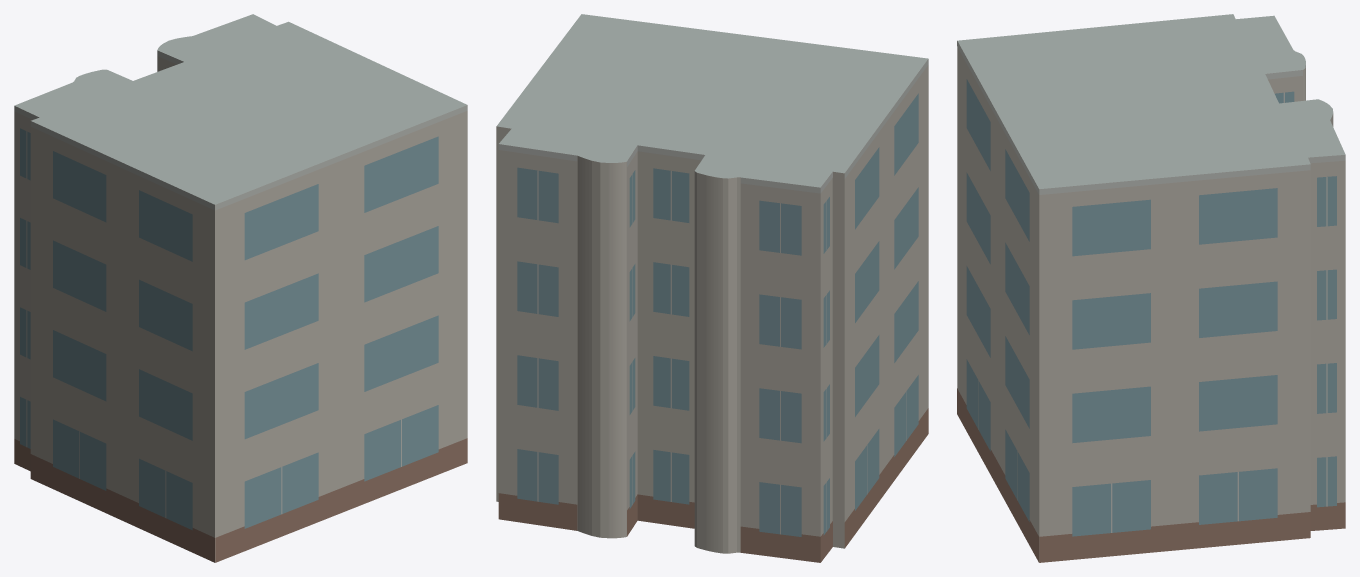
Rendered from survey-upis-32678528.glb.
The picture shows the model from 3 angles, left to right: view 1: azimuth 30°, elevation 25°; view 2: azimuth 150°, elevation 25°; view 3: azimuth 270°, elevation 25°; orthographic projection. The views are drawn at different scales.
Parts seen in each view (by area): view 1: survey-upis-32678528.tmp; view 2: survey-upis-32678528.tmp; view 3: survey-upis-32678528.tmp.
Boxes of the visible parts, x1,y1,x2,y2 form: survey-upis-32678528.tmp: [14, 14, 467, 562]; survey-upis-32678528.tmp: [496, 14, 928, 562]; survey-upis-32678528.tmp: [957, 14, 1345, 562].
Bounding box in the file's own units: 15.6 × 15.5 × 14.61.
